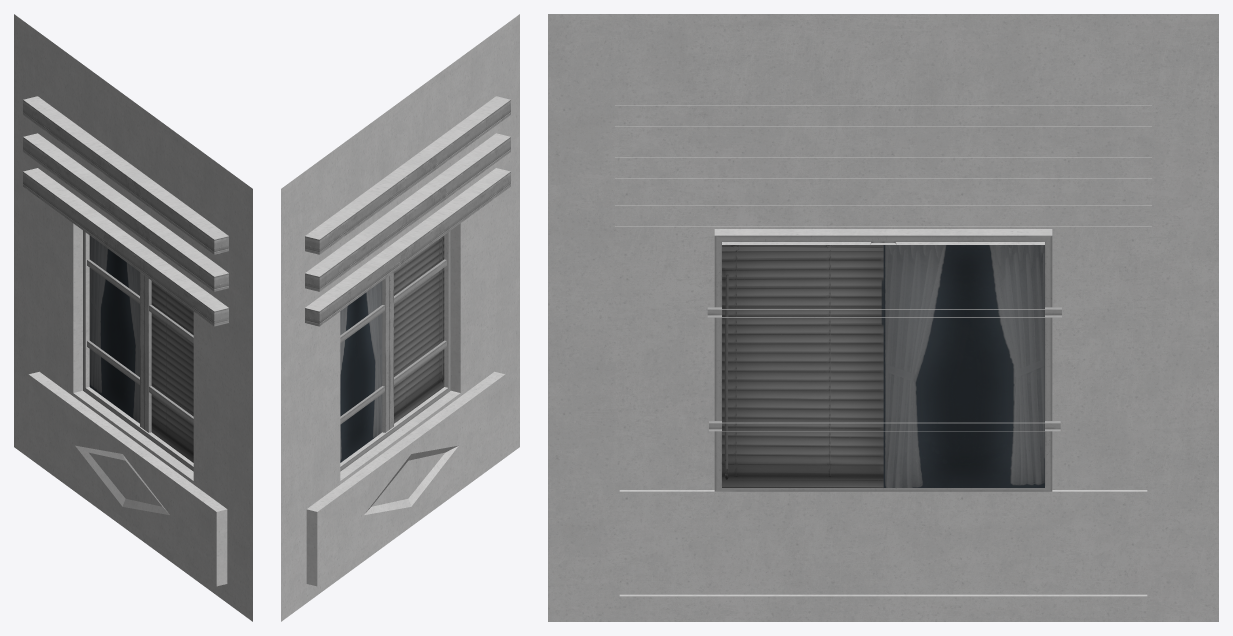
The model's file is MB_Wall_Window_A_12.fbx.
The picture shows the model from 3 angles, left to right: view 1: azimuth 30°, elevation 25°; view 2: azimuth 150°, elevation 25°; view 3: azimuth 270°, elevation 25°; orthographic projection. The views are drawn at different scales.
Parts seen in each view (by area): view 1: MB_Wall_Window_A_12; view 2: MB_Wall_Window_A_12; view 3: MB_Wall_Window_A_12.
Boxes of the visible parts, <box> form: MB_Wall_Window_A_12: <box>14,14,252,621</box>; MB_Wall_Window_A_12: <box>281,14,519,621</box>; MB_Wall_Window_A_12: <box>548,14,1218,621</box>.
Bounding box in the file's own units: 28.38 × 400 × 400.
